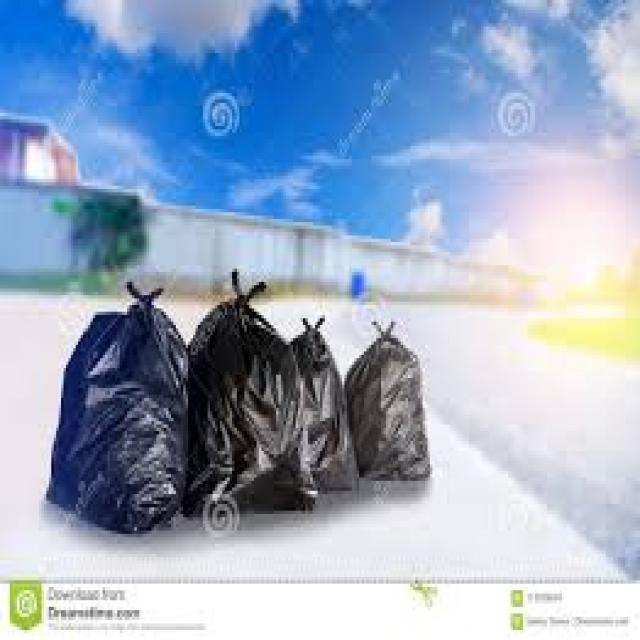plastic_bag: (60, 274, 201, 506), (192, 280, 307, 489), (348, 323, 428, 489), (297, 323, 338, 485)
